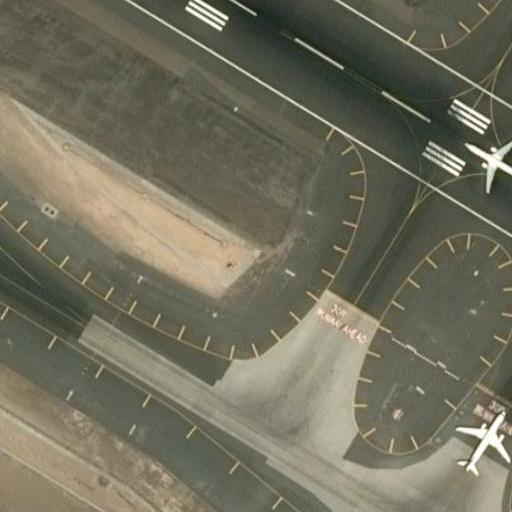Aircraft: (445, 392, 512, 475), (451, 122, 512, 203)
